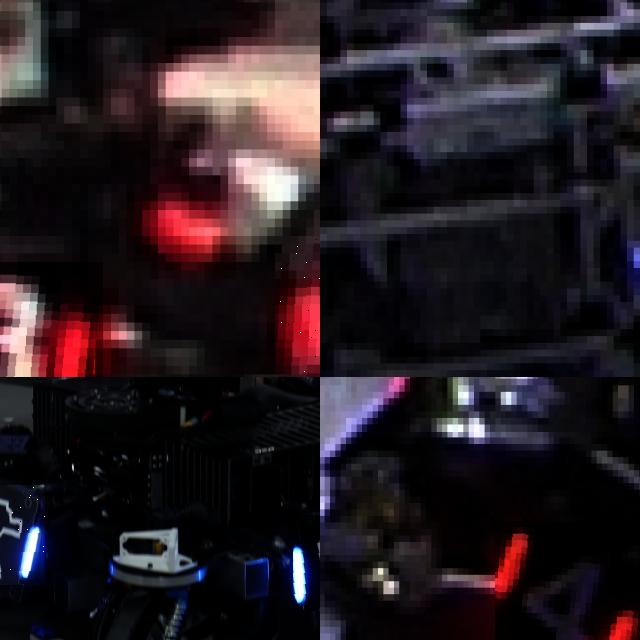Bs: (0, 485, 44, 585), (292, 514, 320, 611)
R3: (0, 261, 103, 377), (275, 236, 320, 377)
R4: (495, 522, 640, 640)
